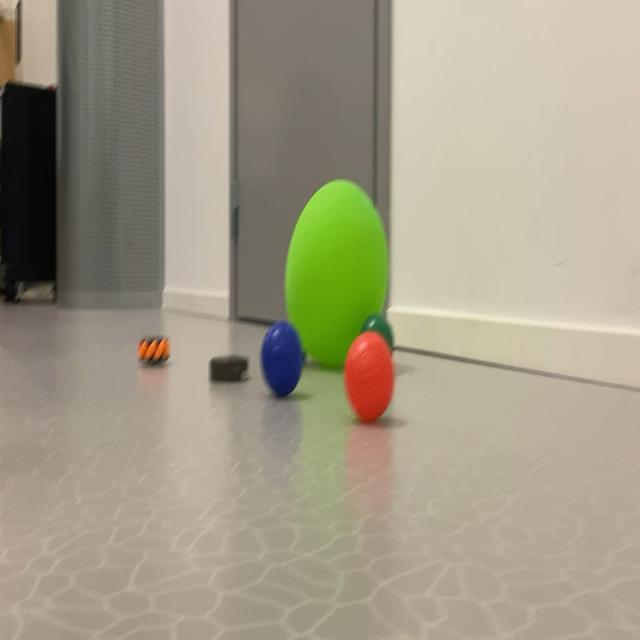blue ball: (255, 328, 304, 398)
green ball: (366, 316, 392, 330)
red ball: (347, 348, 396, 423)
